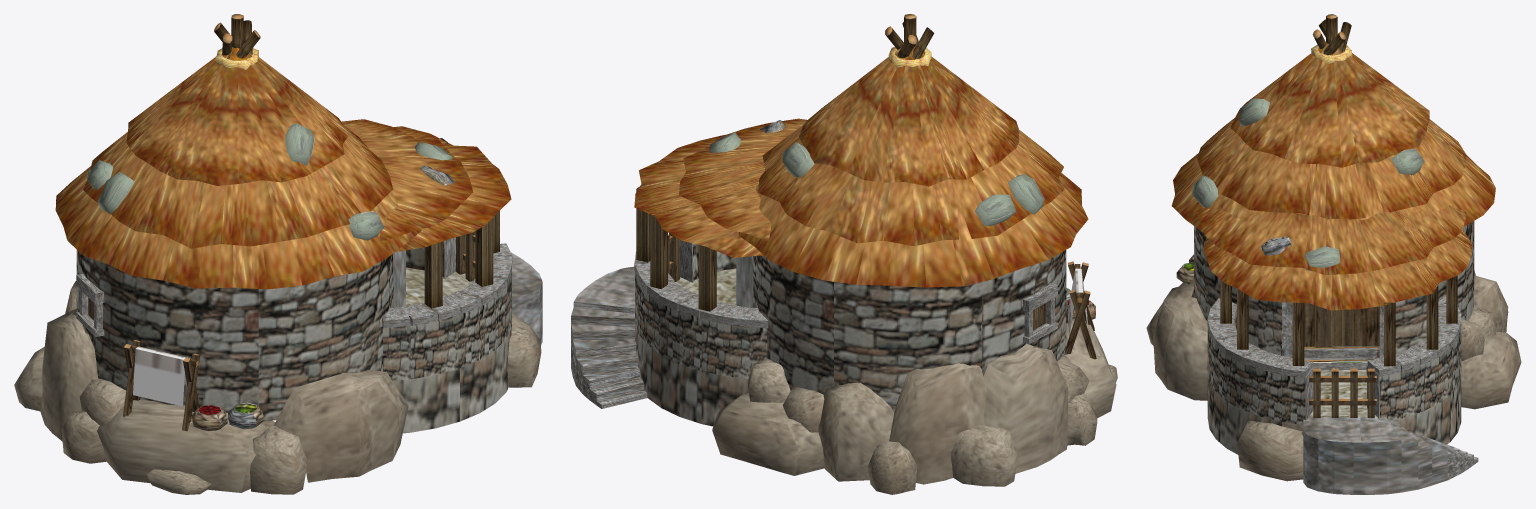
Rendered from lusi_new_house_1.dae.
3 views of the same model, side by side, from view 1: azimuth 30°, elevation 25°; view 2: azimuth 150°, elevation 25°; view 3: azimuth 270°, elevation 25° (orthographic). The views are drawn at different scales.
Visible parts, largest first — view 1: house_1; view 2: house_1; view 3: house_1.
Boxes of the visible parts, left/top/right/bottom form: house_1: left=14, top=14, right=542, bottom=494; house_1: left=571, top=14, right=1117, bottom=494; house_1: left=1146, top=14, right=1521, bottom=494.
Size of the model in its own units: 14.46 by 10.98 by 11.22.
